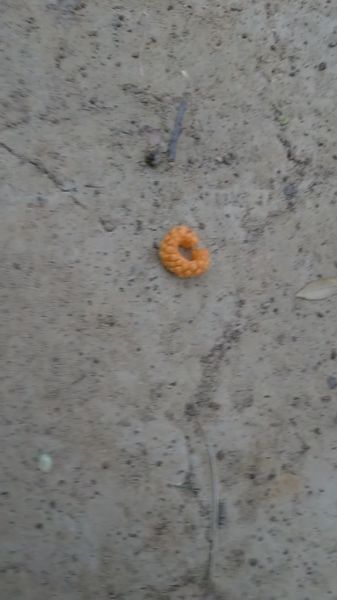eggs: (156, 217, 209, 286)
